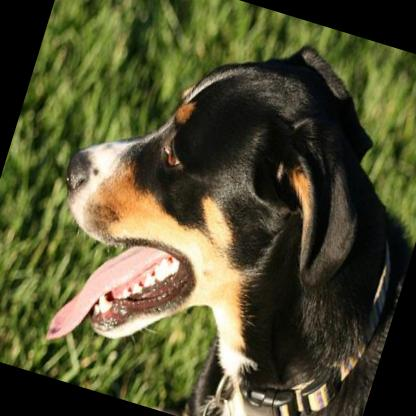EntleBucher: (5, 0, 416, 416)
